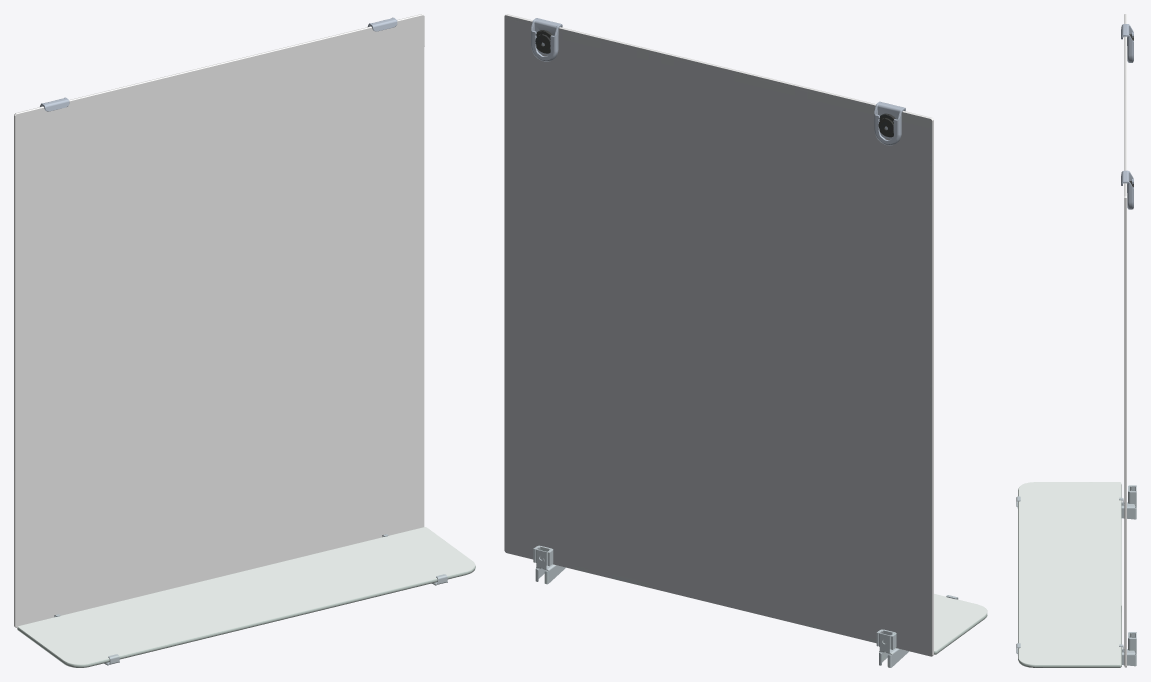
File: nysjon_poka_z_lustrem_60470837.glb
3 views of the same model, side by side, from view 1: azimuth 30°, elevation 25°; view 2: azimuth 150°, elevation 25°; view 3: azimuth 270°, elevation 25° (orthographic). The views are drawn at different scales.
Visible parts, largest first — view 1: nysjon_poka_z_lustrem_60470837; view 2: nysjon_poka_z_lustrem_60470837; view 3: nysjon_poka_z_lustrem_60470837.
Part boxes in pixels (box(x1,y1,x2,y2)): nysjon_poka_z_lustrem_60470837: box(14, 14, 475, 667); nysjon_poka_z_lustrem_60470837: box(504, 14, 987, 667); nysjon_poka_z_lustrem_60470837: box(1016, 14, 1136, 667).
Size of the model in its own units: 0.5 by 0.6199 by 0.1388.
Materials: 2 (2 with a texture image).
